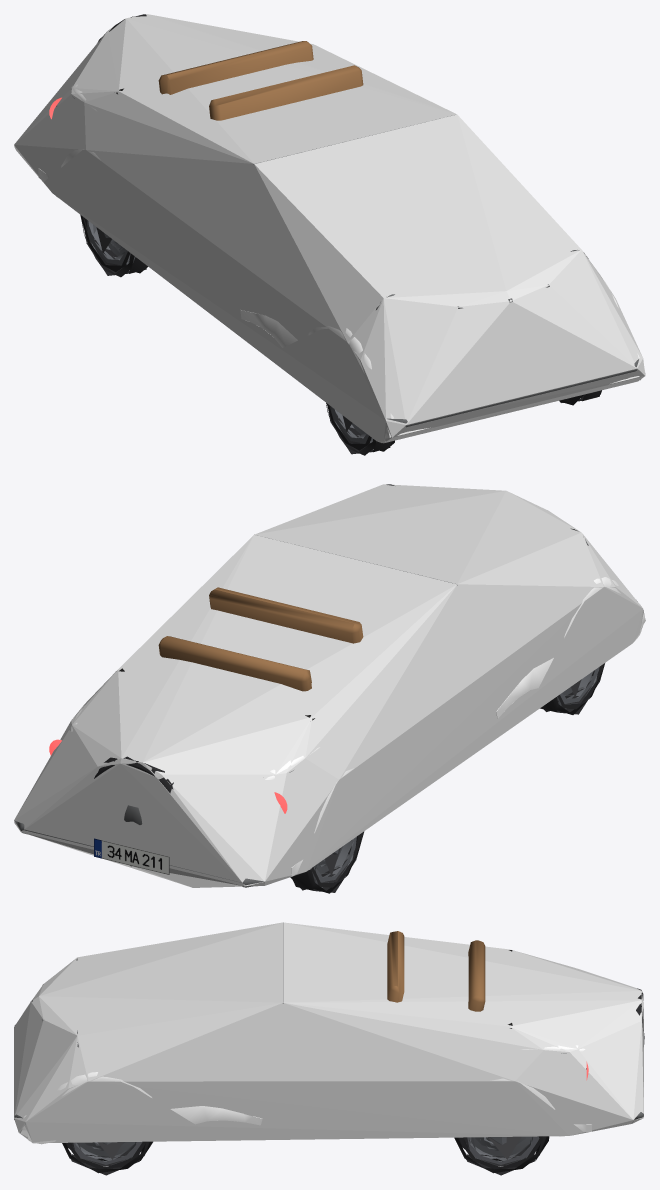
Rendered from bosfor_moda_lod1.glb.
3 views of the same model, one above another, from view 1: azimuth 30°, elevation 25°; view 2: azimuth 150°, elevation 25°; view 3: azimuth 270°, elevation 25° (orthographic). The views are drawn at different scales.
Parts seen in each view (by area): view 1: col_body, interior, body, wheel_RR, wheel_FR, trim; view 2: col_body, interior, body, wheel_RR, plate_rear, trim, wheel_FR; view 3: col_body, interior, wheel_RL, body, wheel_FL.
Boxes of the visible parts, <box> form: col_body: <box>14,14,645,443</box>; interior: <box>158,41,363,120</box>; body: <box>38,84,645,442</box>; wheel_RR: <box>80,215,147,277</box>; wheel_FR: <box>326,403,394,455</box>; trim: <box>14,14,638,427</box>; col_body: <box>14,484,644,887</box>; interior: <box>158,587,363,691</box>; body: <box>69,577,645,876</box>; wheel_RR: <box>290,831,364,893</box>; plate_rear: <box>94,838,169,874</box>; trim: <box>14,484,643,887</box>; wheel_FR: <box>540,663,604,714</box>; col_body: <box>14,922,643,1143</box>; interior: <box>387,931,485,1011</box>; wheel_RL: <box>454,1136,549,1175</box>; body: <box>20,968,592,1144</box>; wheel_FL: <box>62,1141,152,1175</box>.
Size of the model in its own units: 1.77 by 1.39 by 4.64.
10 materials, 1 textured.
